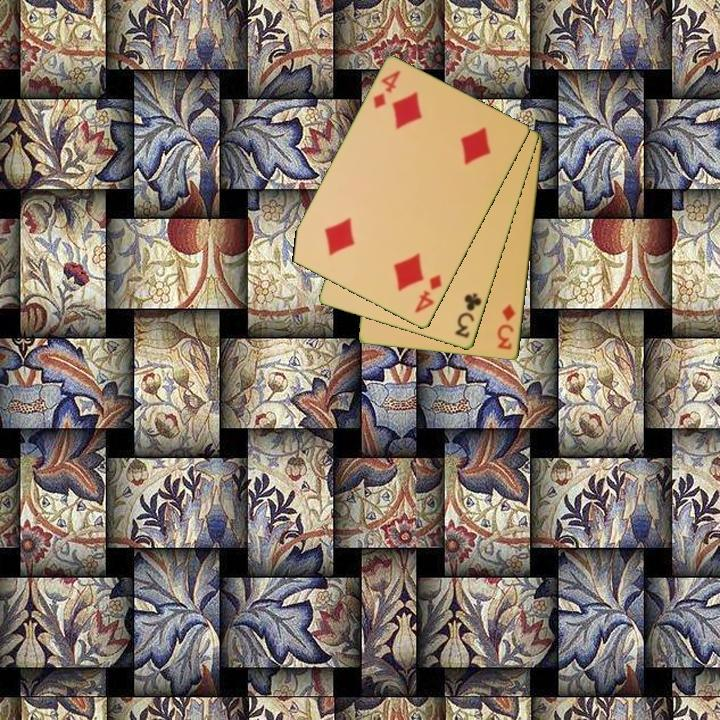3c: (451, 290, 485, 341)
3d: (494, 300, 519, 353)
4d: (411, 271, 445, 316), (370, 67, 403, 112)
